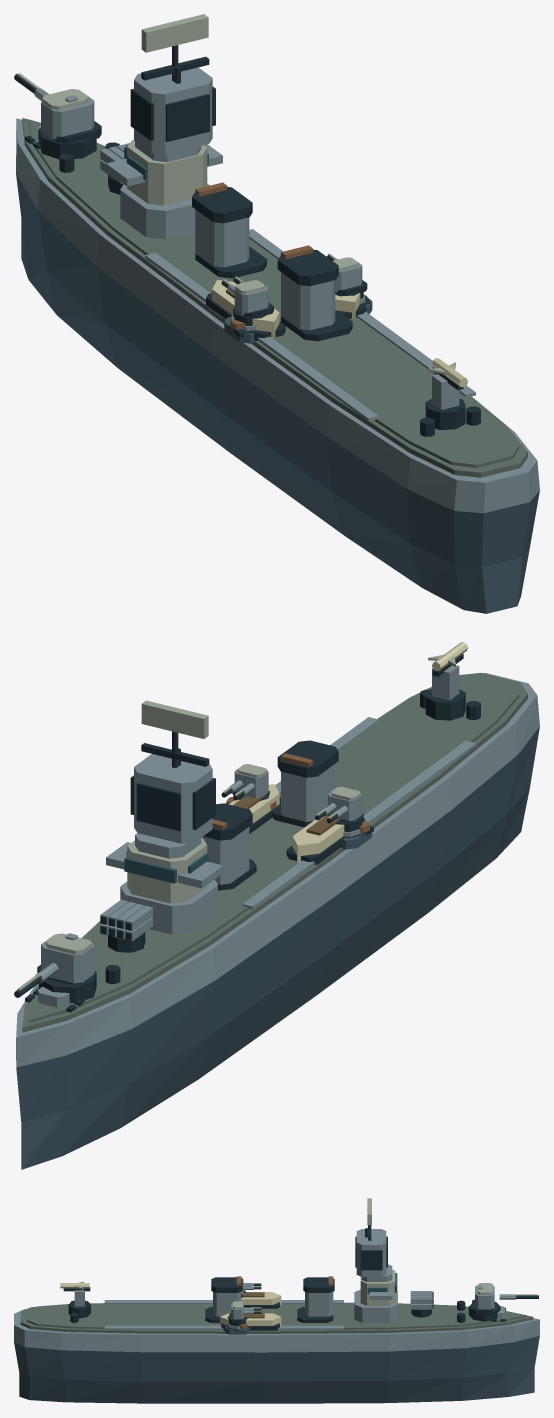
The model's file is historic-decatur.glb.
3 renders of one model, top to bottom at view 1: azimuth 30°, elevation 25°; view 2: azimuth 150°, elevation 25°; view 3: azimuth 270°, elevation 25°, orthographic. The views are drawn at different scales.
Parts seen in each view (by area): view 1: historic-decatur-historic-decatur-geometry, historic-decatur-part_bridge.140-geometry, historic-decatur-historic_funnel_1.078-geometry, historic-decatur-historic_funnel_0.133-geometry, historic-decatur-turret_main_0.109-geometry, historic-decatur-naval_launcher_0.015-geometry, historic-decatur-turret_aa_aa-port.142-geometry, historic-decatur-turret_aa_aa-starboard.138-geometry; view 2: historic-decatur-historic-decatur-geometry, historic-decatur-part_bridge.140-geometry, historic-decatur-historic_funnel_1.078-geometry, historic-decatur-turret_main_0.109-geometry, historic-decatur-historic_funnel_0.133-geometry, historic-decatur-naval_launcher_0.015-geometry, historic-decatur-naval_launcher_1.011-geometry, historic-decatur-turret_aa_aa-port.142-geometry, historic-decatur-turret_aa_aa-starboard.138-geometry; view 3: historic-decatur-historic-decatur-geometry, historic-decatur-part_bridge.140-geometry, historic-decatur-historic_funnel_0.133-geometry, historic-decatur-historic_funnel_1.078-geometry, historic-decatur-turret_main_0.109-geometry, historic-decatur-naval_launcher_0.015-geometry, historic-decatur-naval_launcher_1.011-geometry, historic-decatur-turret_aa_aa-starboard.138-geometry.
Part boxes in pixels (box(x1,y1,x2,y2)): historic-decatur-historic-decatur-geometry: box(16, 118, 539, 613); historic-decatur-part_bridge.140-geometry: box(106, 14, 222, 239); historic-decatur-historic_funnel_1.078-geometry: box(277, 245, 352, 341); historic-decatur-historic_funnel_0.133-geometry: box(192, 182, 266, 278); historic-decatur-turret_main_0.109-geometry: box(14, 73, 101, 159); historic-decatur-naval_launcher_0.015-geometry: box(425, 358, 467, 429); historic-decatur-turret_aa_aa-port.142-geometry: box(221, 276, 273, 325); historic-decatur-turret_aa_aa-starboard.138-geometry: box(327, 253, 367, 298); historic-decatur-historic-decatur-geometry: box(16, 673, 539, 1169); historic-decatur-part_bridge.140-geometry: box(106, 700, 222, 934); historic-decatur-historic_funnel_1.078-geometry: box(272, 740, 338, 827); historic-decatur-turret_main_0.109-geometry: box(14, 933, 96, 1003); historic-decatur-historic_funnel_0.133-geometry: box(201, 803, 256, 890); historic-decatur-naval_launcher_0.015-geometry: box(425, 642, 467, 720); historic-decatur-naval_launcher_1.011-geometry: box(100, 899, 152, 952); historic-decatur-turret_aa_aa-port.142-geometry: box(315, 786, 363, 831); historic-decatur-turret_aa_aa-starboard.138-geometry: box(221, 764, 269, 800); historic-decatur-historic-decatur-geometry: box(14, 1292, 539, 1403); historic-decatur-part_bridge.140-geometry: box(354, 1198, 397, 1322); historic-decatur-historic_funnel_0.133-geometry: box(297, 1276, 334, 1322); historic-decatur-historic_funnel_1.078-geometry: box(205, 1276, 242, 1322); historic-decatur-turret_main_0.109-geometry: box(468, 1283, 538, 1321); historic-decatur-naval_launcher_0.015-geometry: box(60, 1281, 90, 1318); historic-decatur-naval_launcher_1.011-geometry: box(410, 1291, 433, 1317); historic-decatur-turret_aa_aa-starboard.138-geometry: box(227, 1301, 261, 1326).
Size of the model in its own units: 0.654 by 1.61 by 4.11.
